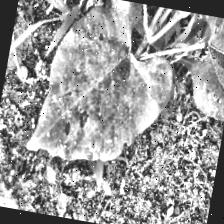ALS: (25, 0, 187, 177), (181, 14, 224, 122)
